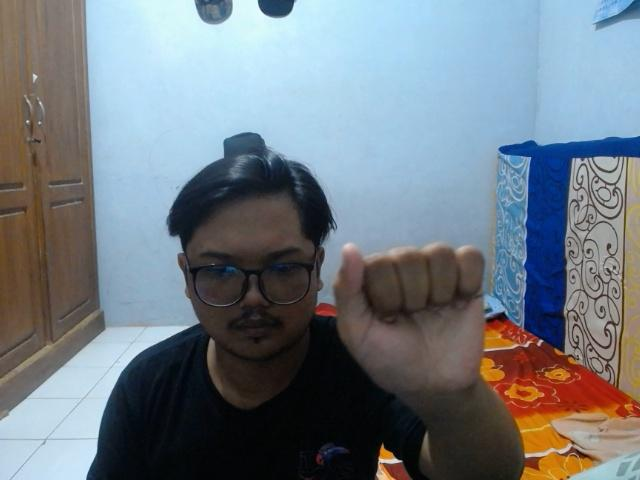Grab: (328, 237, 490, 409)
